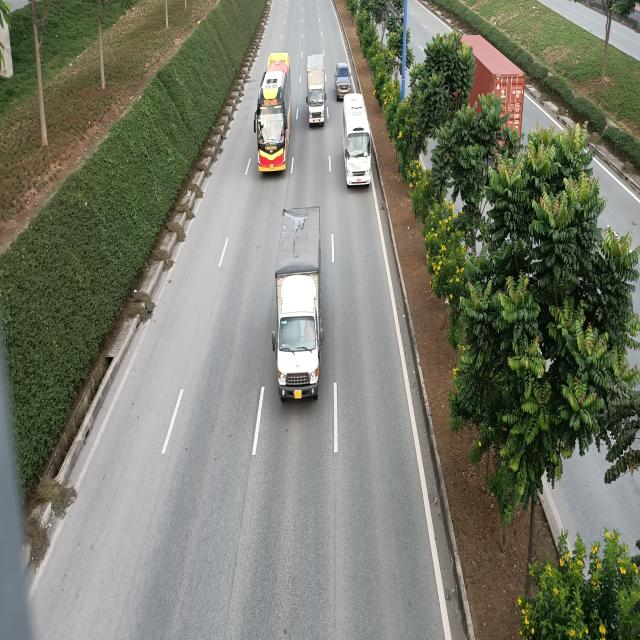car: (335, 63, 351, 100)
coach: (253, 52, 292, 172), (342, 94, 372, 188)
truck: (272, 208, 324, 397), (306, 53, 326, 125)
